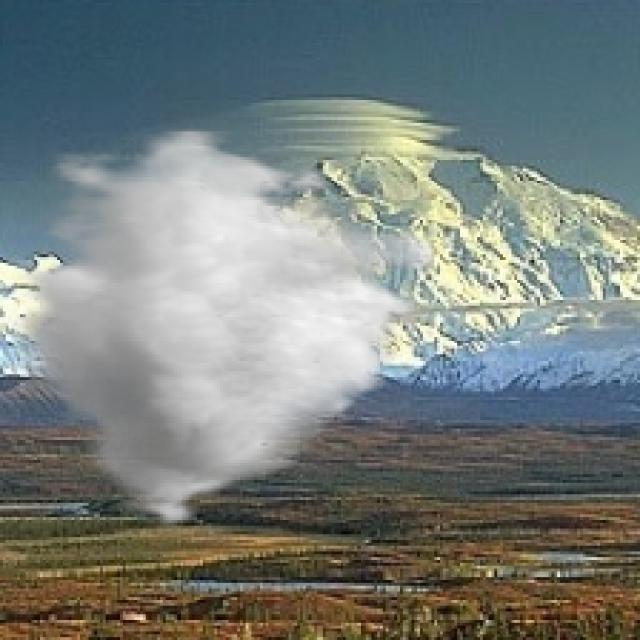Smoke: (14, 128, 434, 534)
